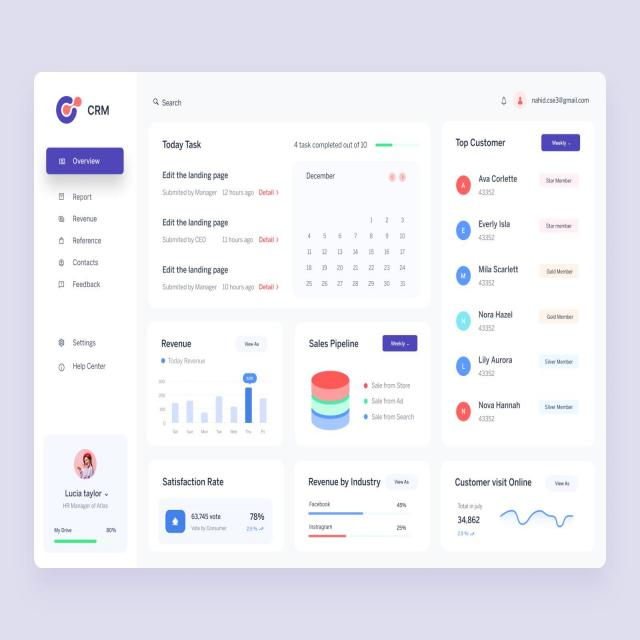button: (47, 147, 124, 175), (541, 135, 581, 152), (236, 336, 268, 351), (546, 475, 578, 490), (387, 475, 417, 490)
select: (382, 334, 418, 352)
